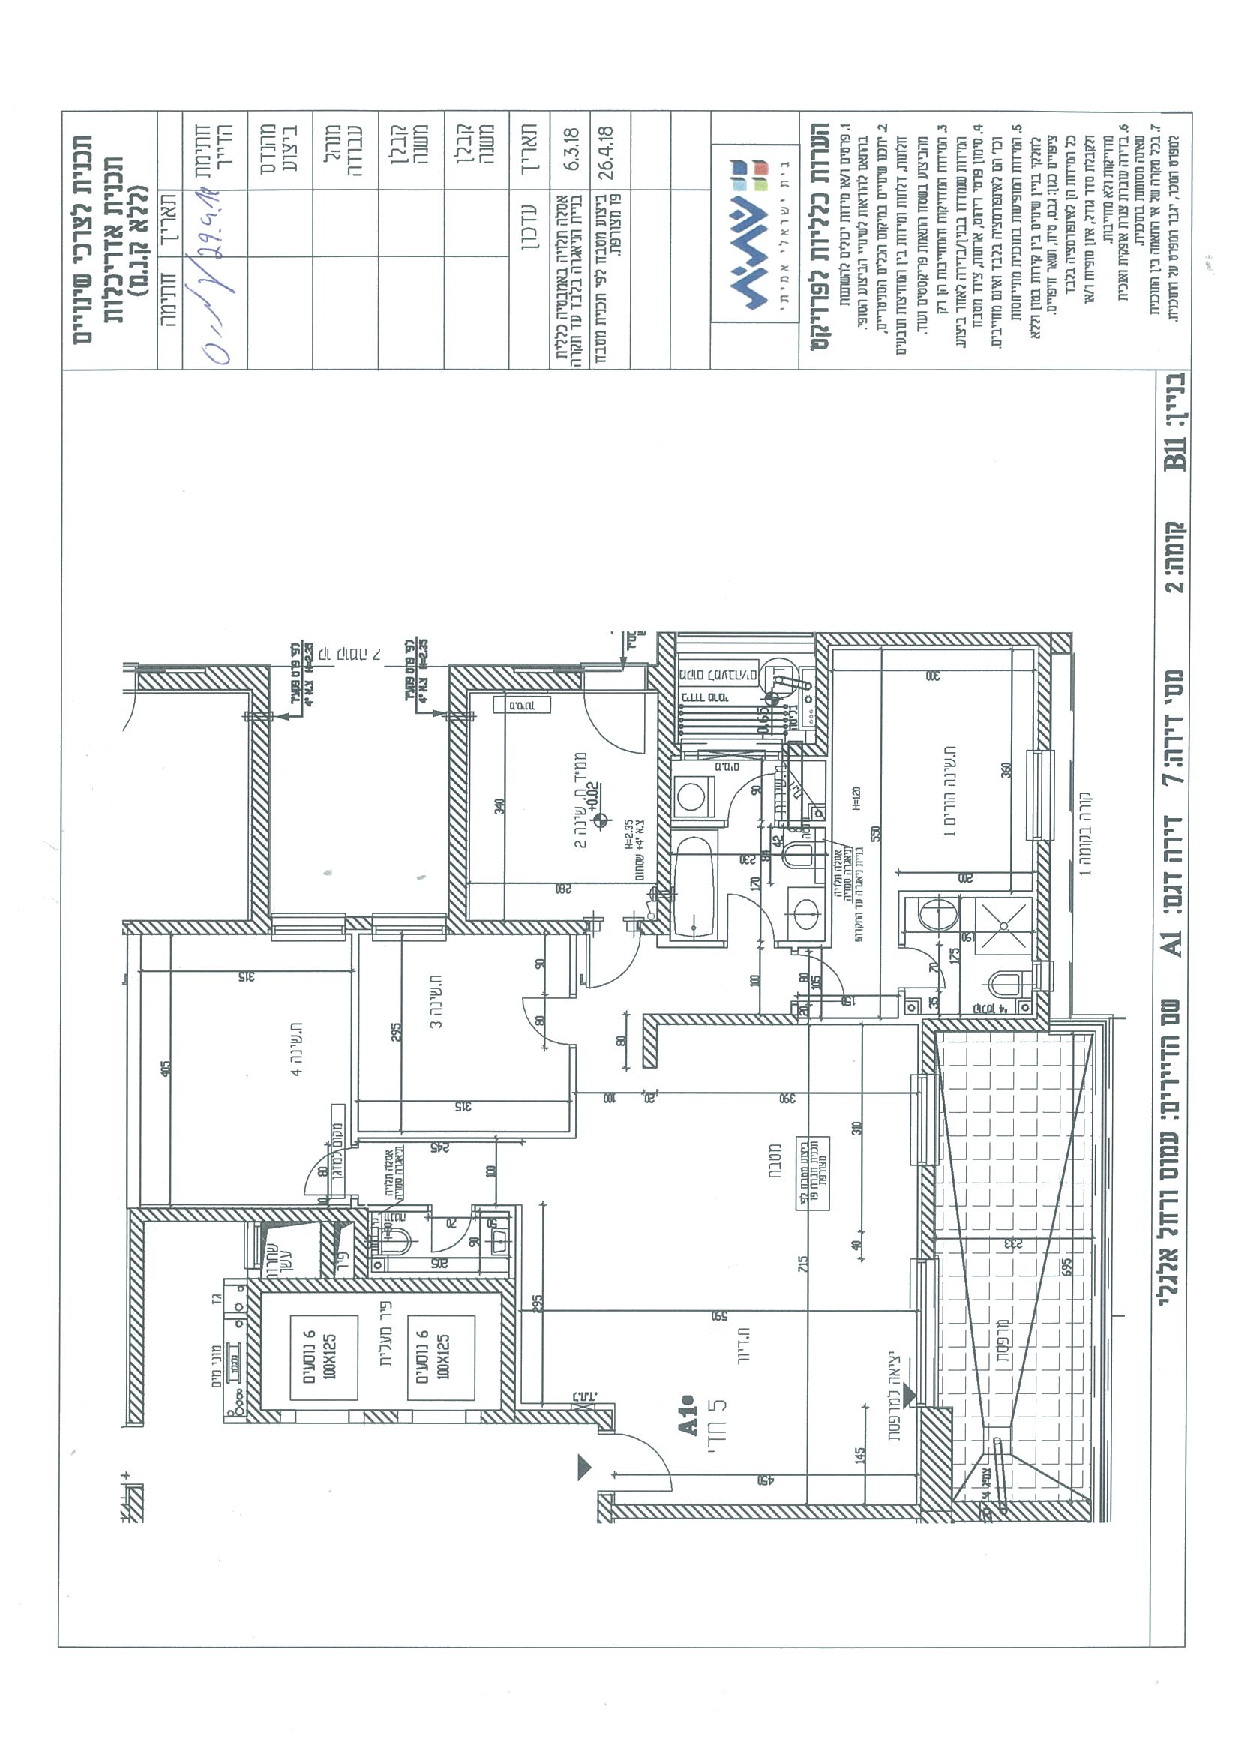door: (573, 694, 655, 755)
wall: (620, 1504, 919, 1521), (251, 726, 273, 931), (449, 714, 466, 931), (258, 1280, 514, 1292), (132, 1204, 145, 1423), (817, 632, 1031, 645), (163, 1210, 337, 1223)
